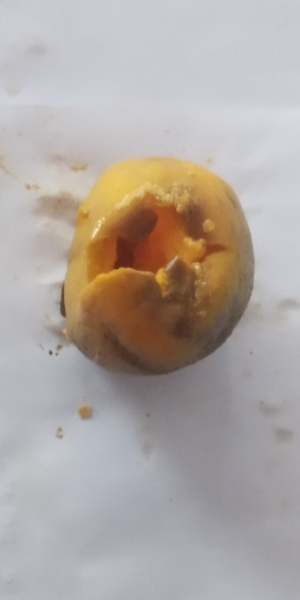BAD: (69, 154, 258, 375)
